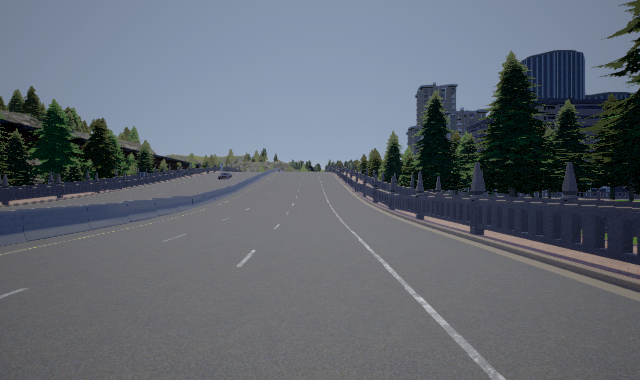vehicle: (217, 171, 231, 182)
